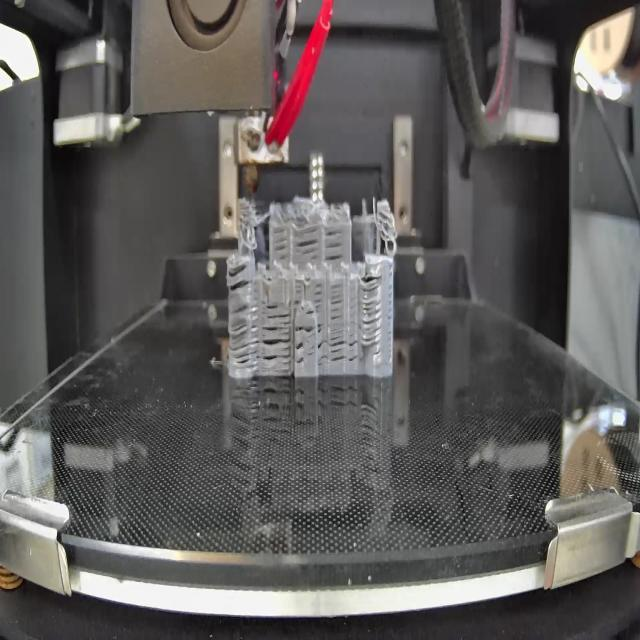cracks: (231, 304, 259, 372), (360, 273, 383, 349), (260, 327, 292, 373), (329, 331, 359, 366), (294, 222, 320, 261), (226, 260, 252, 290), (324, 225, 343, 264), (272, 228, 291, 262), (263, 298, 291, 320), (317, 320, 327, 372), (330, 286, 343, 324), (295, 341, 305, 367), (294, 322, 316, 333), (294, 276, 302, 304), (314, 284, 322, 306), (305, 306, 316, 317)
